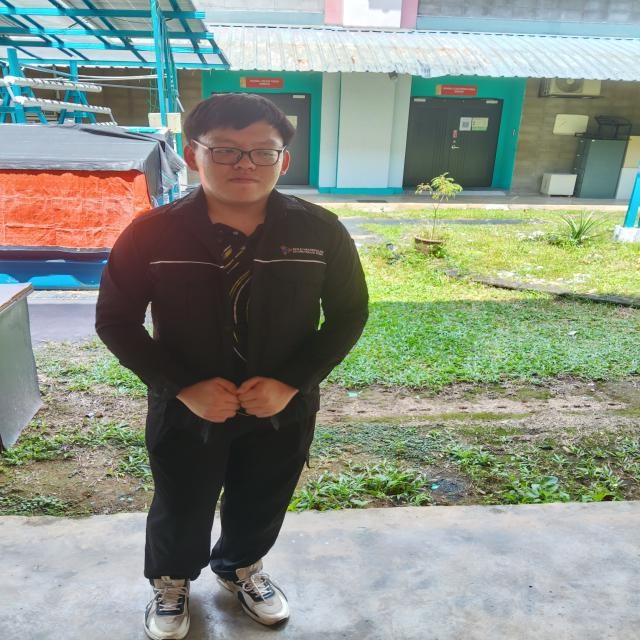person_with_labcoat: (96, 94, 368, 640)
